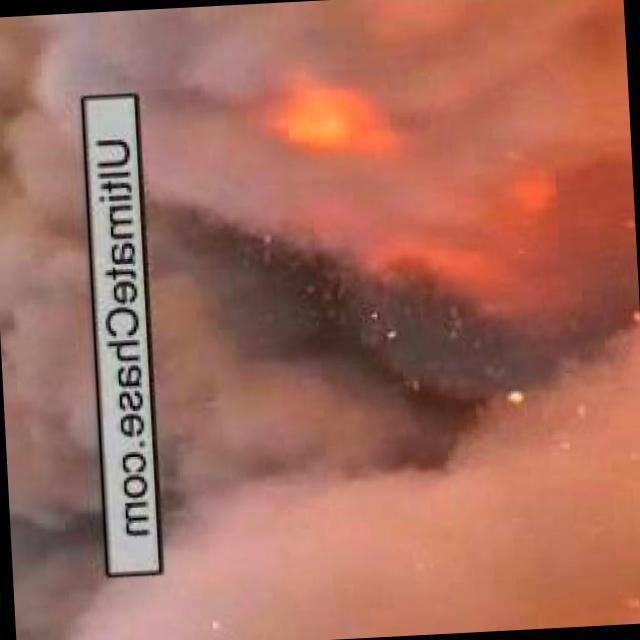Fire: (237, 76, 587, 329)
